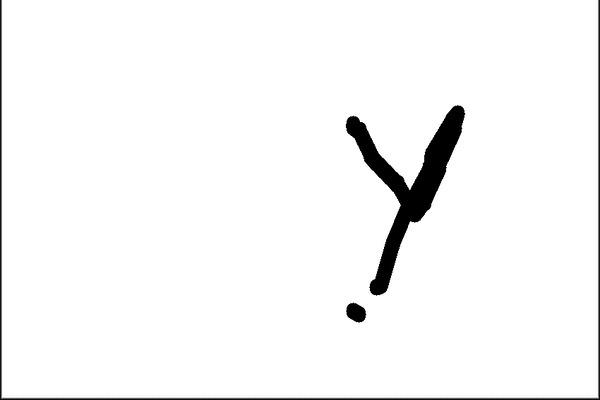Y: (328, 94, 478, 299)
